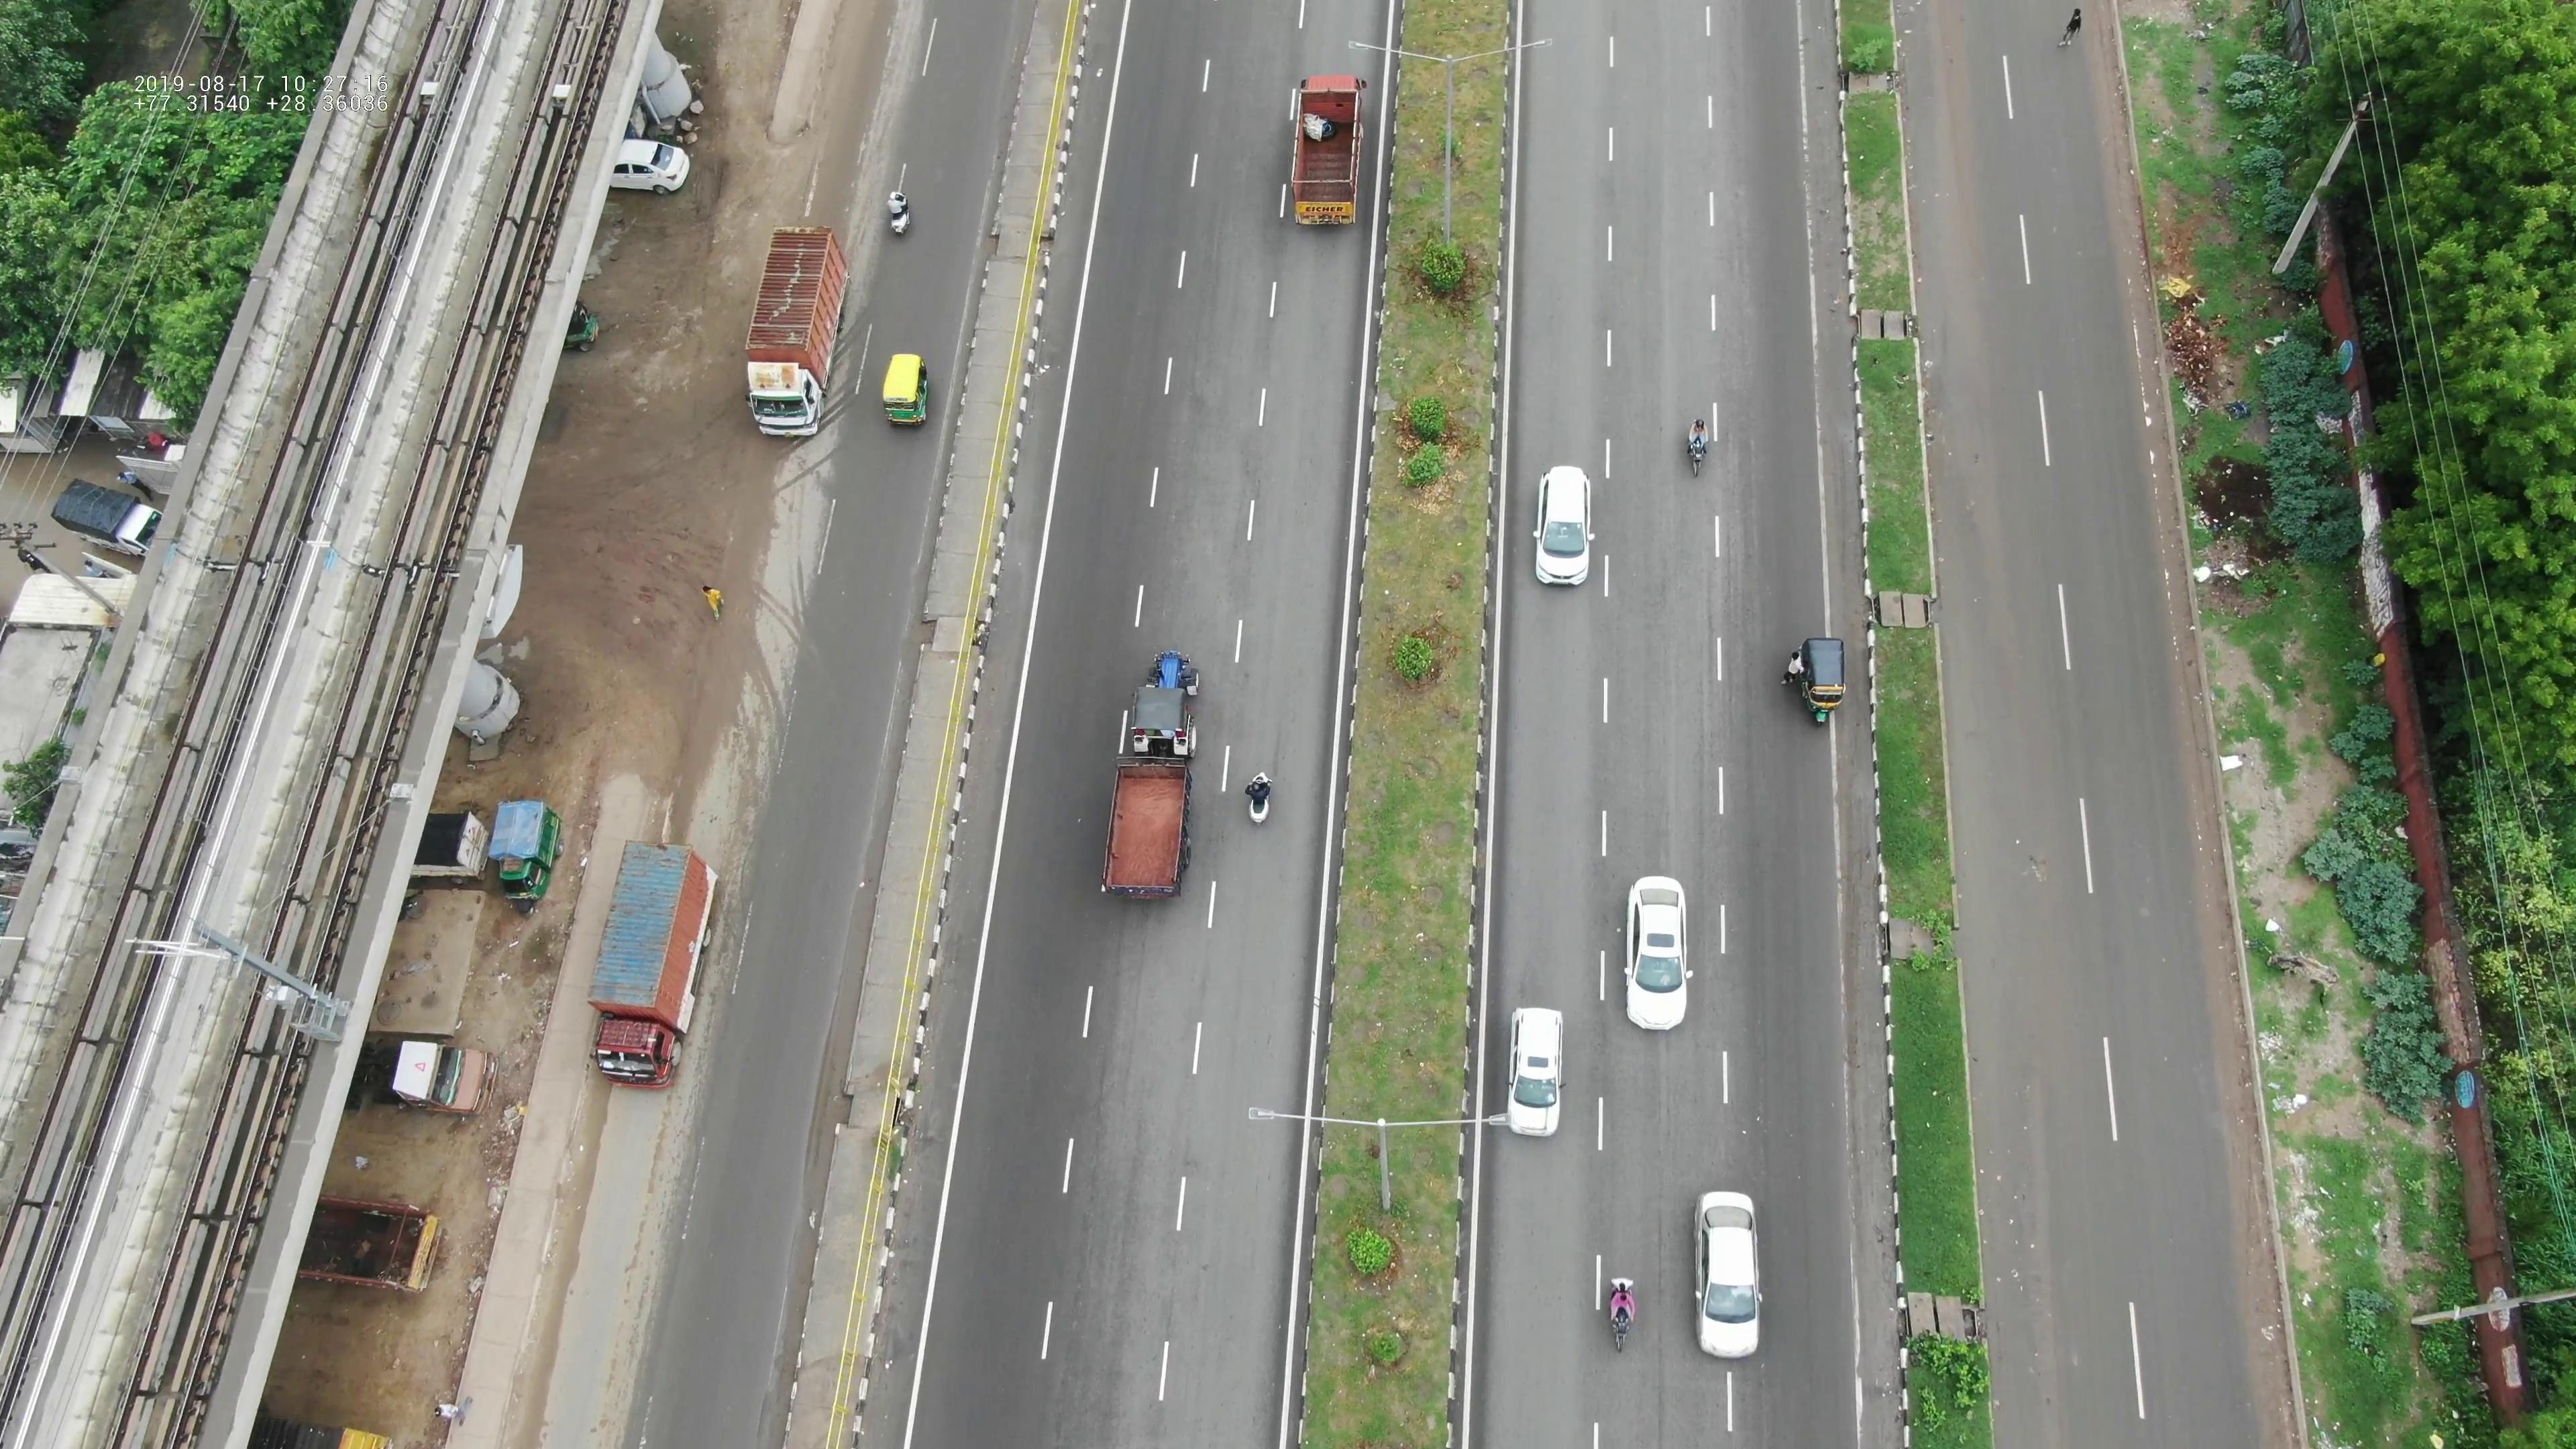Road_side_garbage: (2164, 280, 2314, 579)
